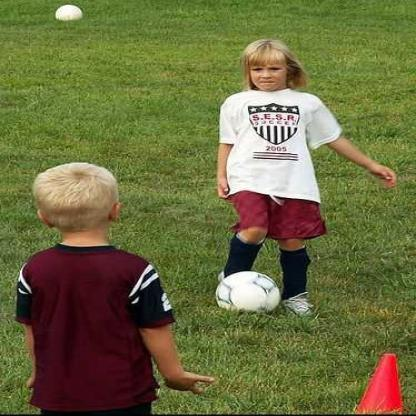ball: (215, 271, 282, 316), (56, 4, 82, 22)
